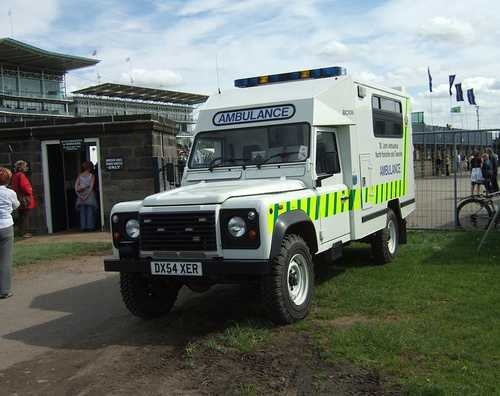Ambulance: (105, 68, 420, 326)
